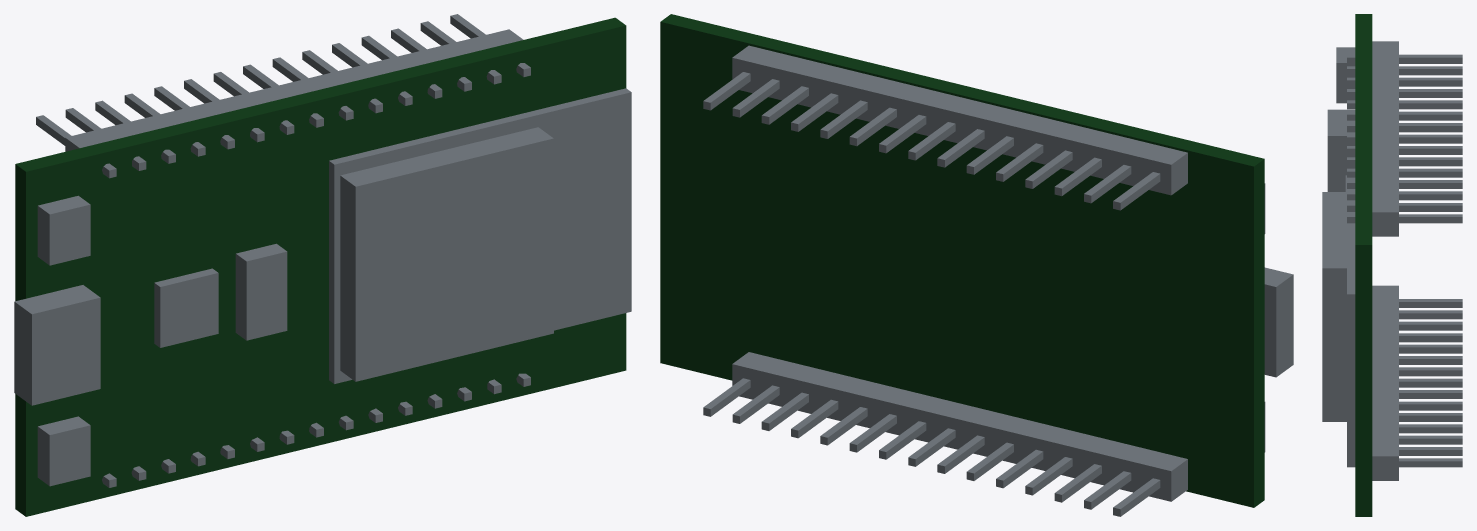
Rendered from esp32-devkit.glb.
3 renders of one model, left to right at view 1: azimuth 30°, elevation 25°; view 2: azimuth 150°, elevation 25°; view 3: azimuth 270°, elevation 25°, orthographic. The views are drawn at different scales.
Parts seen in each view (by area): view 1: part0, part1; view 2: part0, part1; view 3: part1, part0.
Part boxes in pixels (x1=…): part0: x1=15, y1=17, x2=626, y2=516; part1: x1=14, y1=14, x2=631, y2=487; part0: x1=660, y1=14, x2=1264, y2=507; part1: x1=703, y1=45, x2=1293, y2=516; part1: x1=1322, y1=41, x2=1462, y2=480; part0: x1=1355, y1=14, x2=1372, y2=516.
Size of the model in its own units: 0.0525 by 0.0283 by 0.0132.
